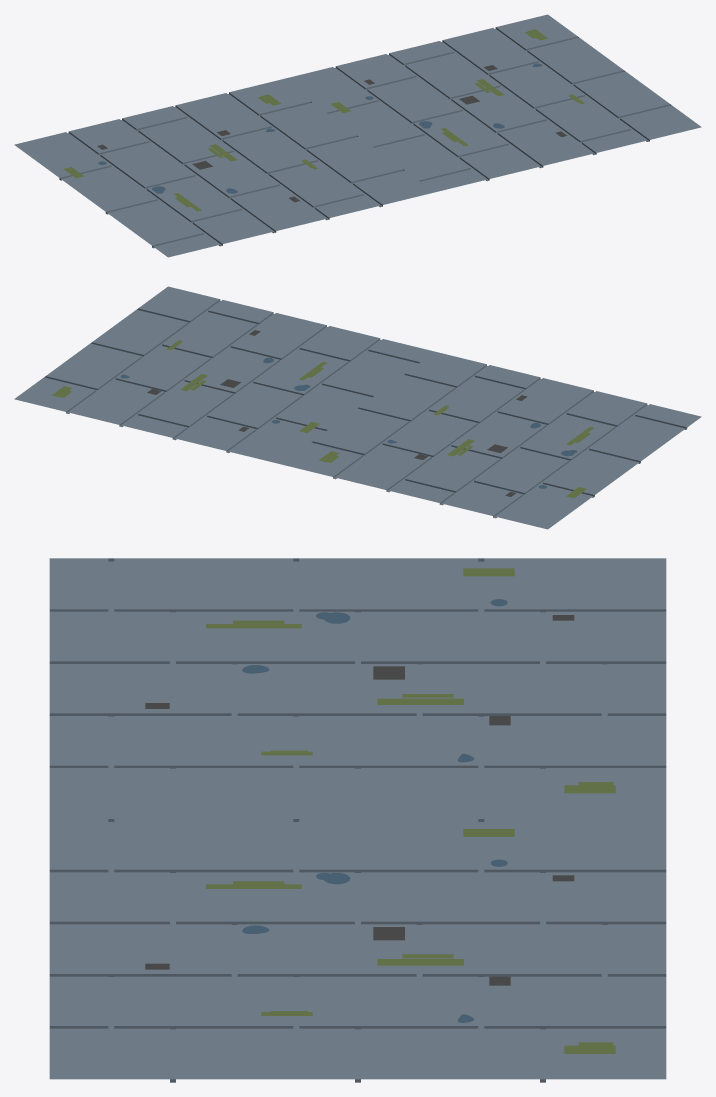
The model's file is decor3_1.fbx.
The picture shows the model from 3 angles, top to bottom: view 1: azimuth 30°, elevation 25°; view 2: azimuth 150°, elevation 25°; view 3: azimuth 270°, elevation 25°; orthographic projection. The views are drawn at different scales.
Parts seen in each view (by area): view 1: decor3_2; view 2: decor3_2; view 3: decor3_2.
Part boxes in pixels (x1,y1,x2,y2): decor3_2: (14, 14, 701, 257); decor3_2: (14, 286, 701, 529); decor3_2: (49, 558, 666, 1082).
Bounding box in the file's own units: 1766 × 8 × 883.
